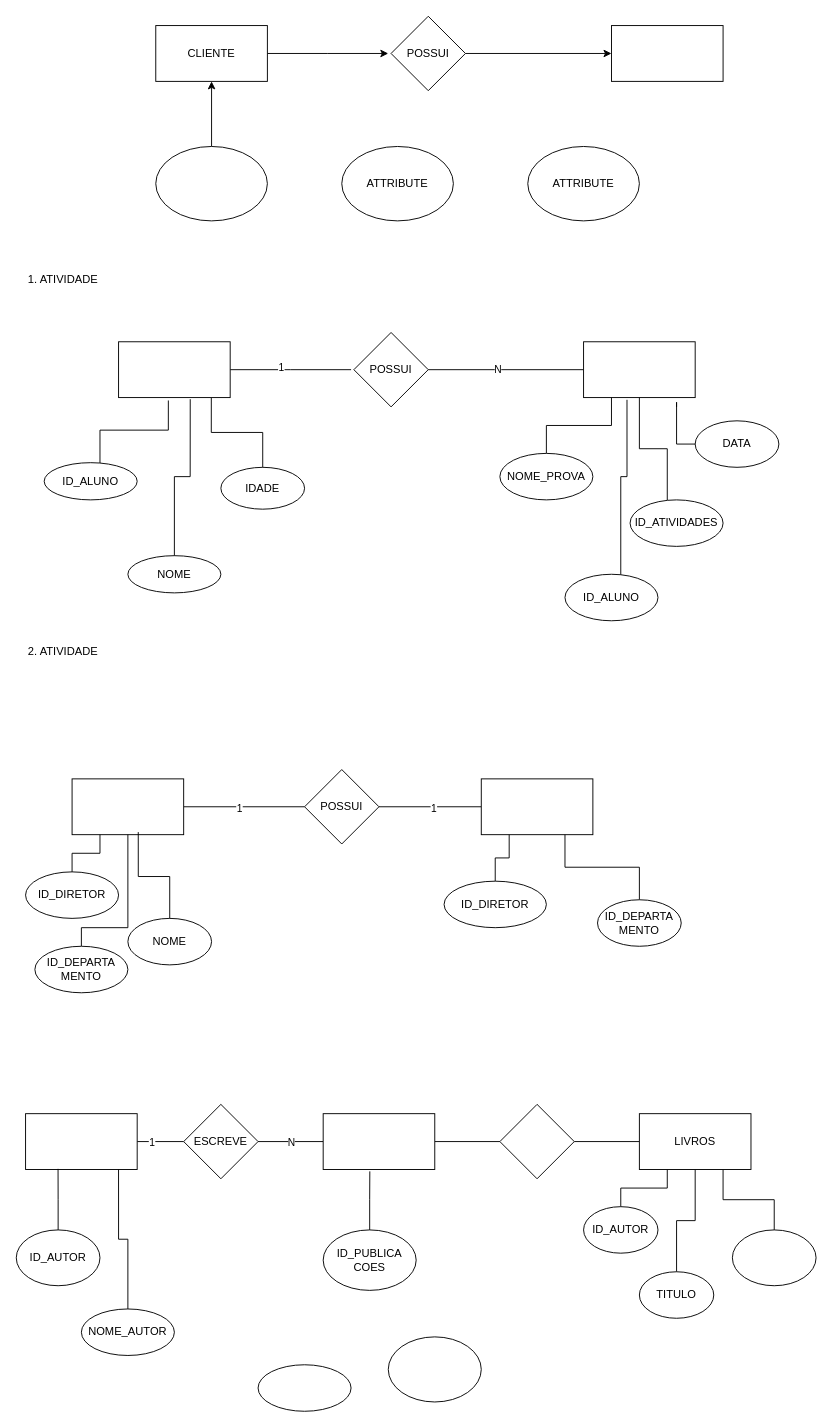
The diagram is 832 pixels wide and 1428 high, and some of its shapes have lost their labels. Here are the shapes that lost their labels. From the top down, the centre of each, then its label:
the point at 667,53: PEDIDO
the point at 211,183: ID_CLIENTE
the point at 174,369: ALUNO
the point at 639,369: ATIVIDADES
the point at 127,806: DIRETOR
the point at 536,806: DEPARTAMENTO
the point at 81,1141: AUTOR
the point at 378,1141: PUBLICACOES
the point at 536,1141: TEM
the point at 773,1257: ID_LIVRO
